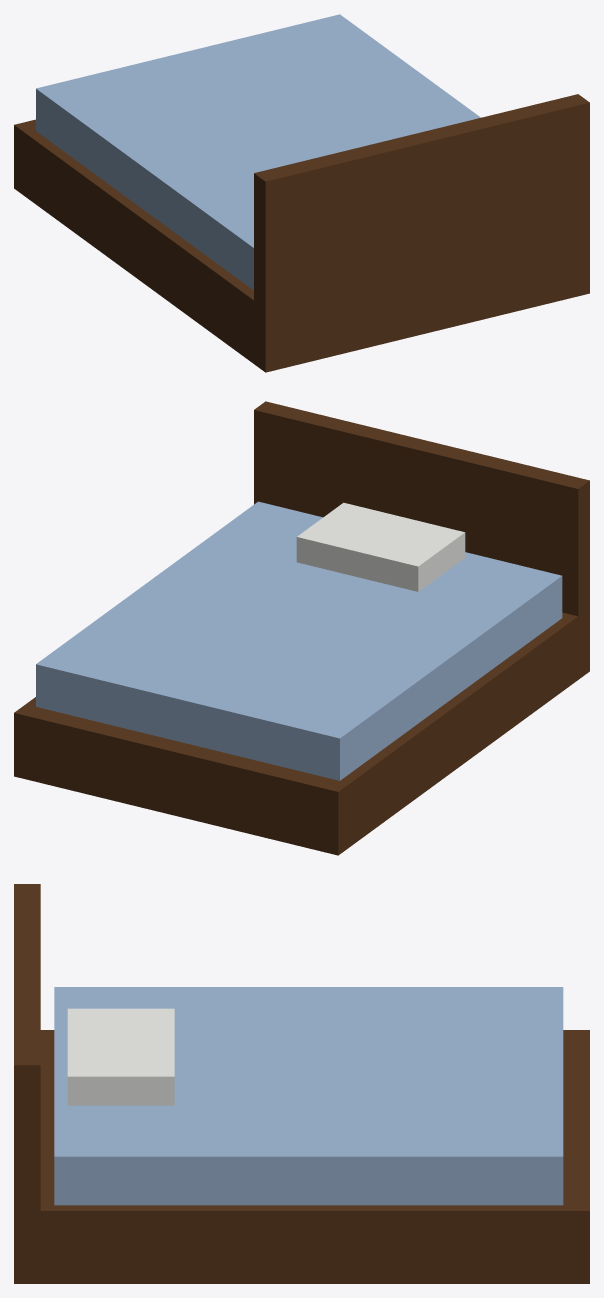
Rendered from int_bed.glb.
The picture shows the model from 3 angles, top to bottom: view 1: azimuth 30°, elevation 25°; view 2: azimuth 150°, elevation 25°; view 3: azimuth 270°, elevation 25°; orthographic projection. The views are drawn at different scales.
Visible parts, largest first — view 1: int_bed__mesh; view 2: int_bed__mesh; view 3: int_bed__mesh.
Part boxes in pixels (bbox=[...]): int_bed__mesh: bbox=[14, 14, 589, 372]; int_bed__mesh: bbox=[14, 401, 589, 855]; int_bed__mesh: bbox=[14, 884, 589, 1283].
Size of the model in its own units: 1.6 by 0.9 by 2.15.
